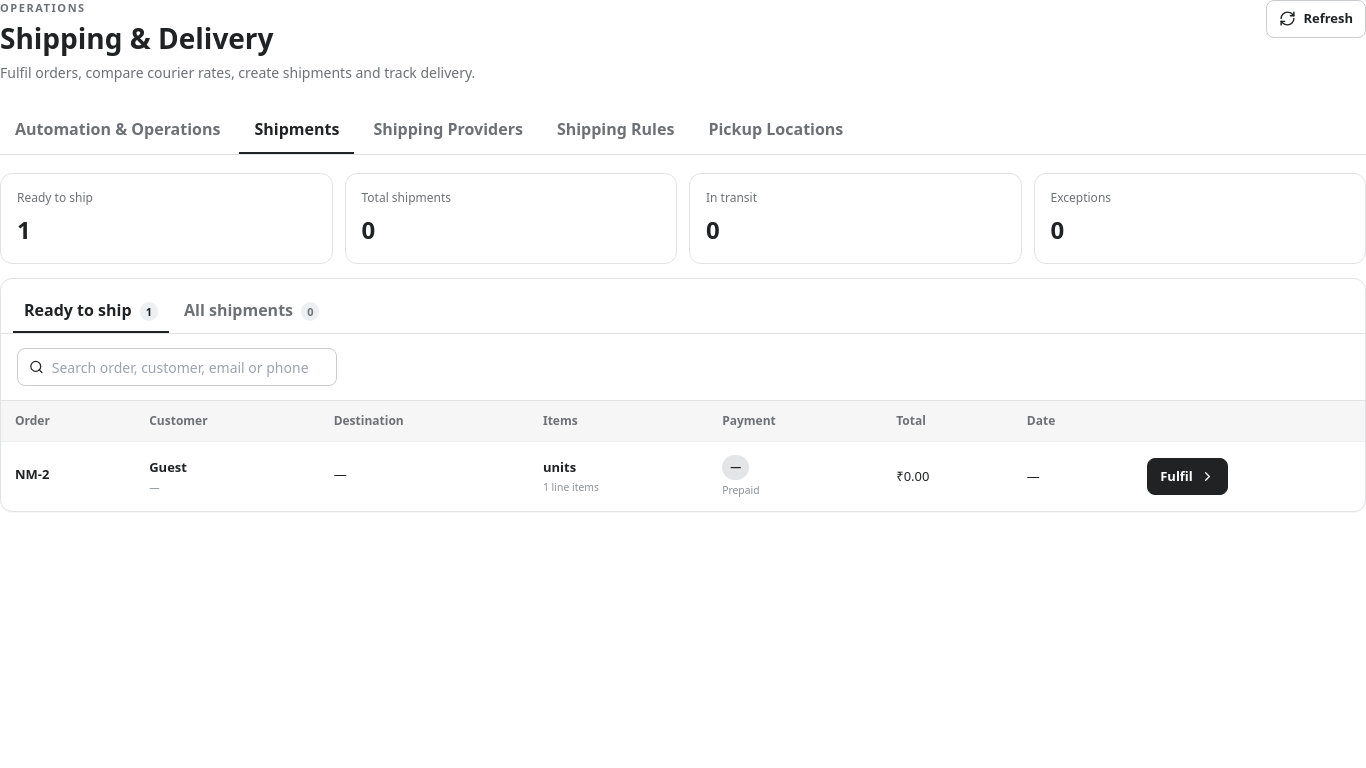
shows carrier configuration failure and retains the selected provider without claiming success
The image size is (1366, 768).
Click the button "Fulfil" at point(1188, 477), box [1147,458,1228,495]
(page scrolled)
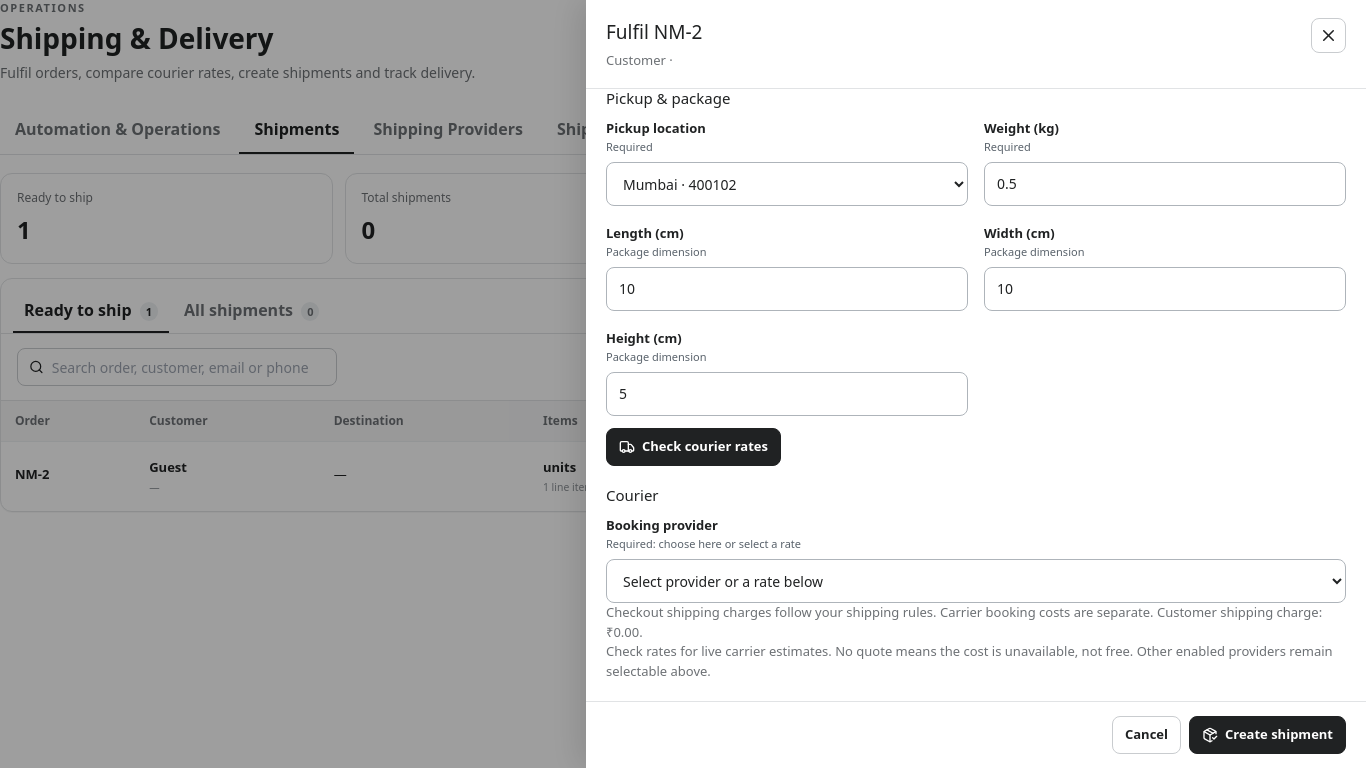
Select "Delhivery — API booking" in the dropdown named "Delhivery — API booking" at point(976, 581), box [606,559,1346,603]
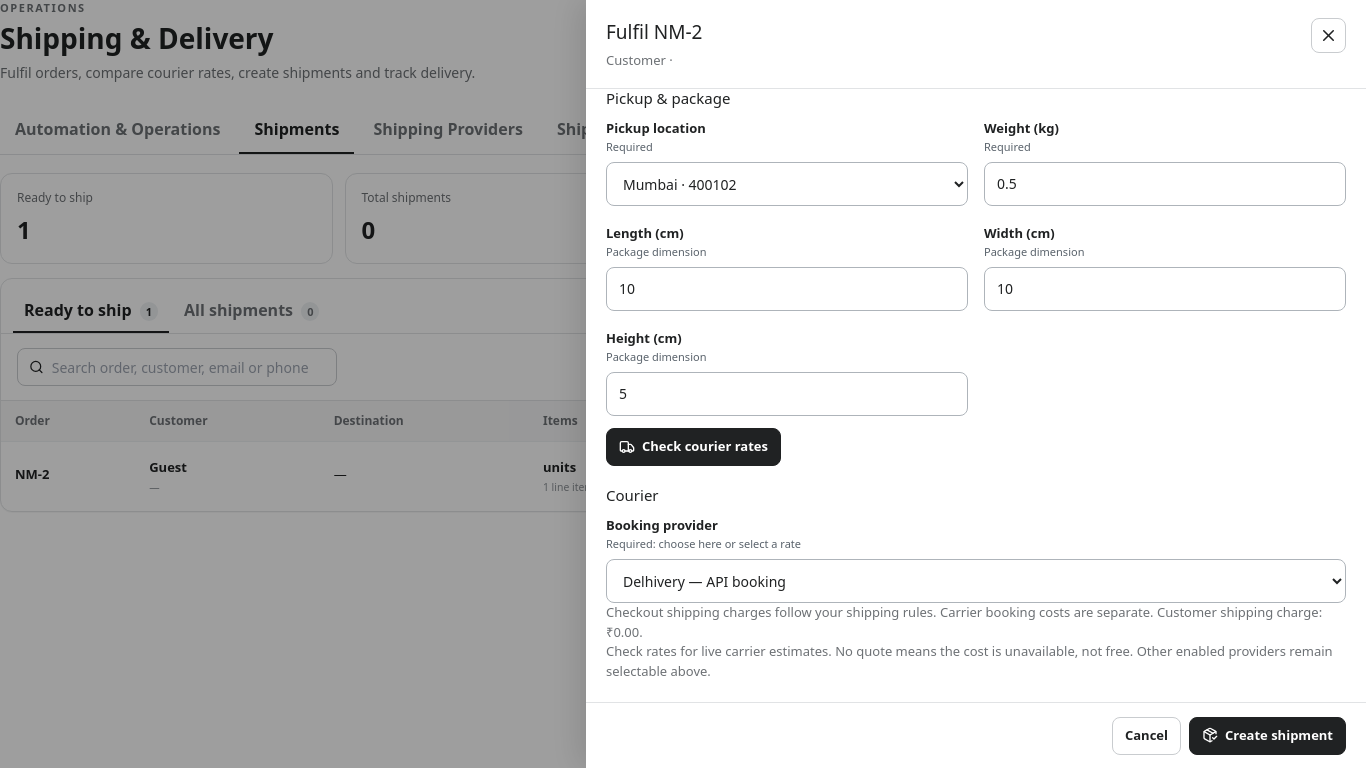
Click the button "Create shipment" at point(1268, 735), box [1189,716,1346,754]
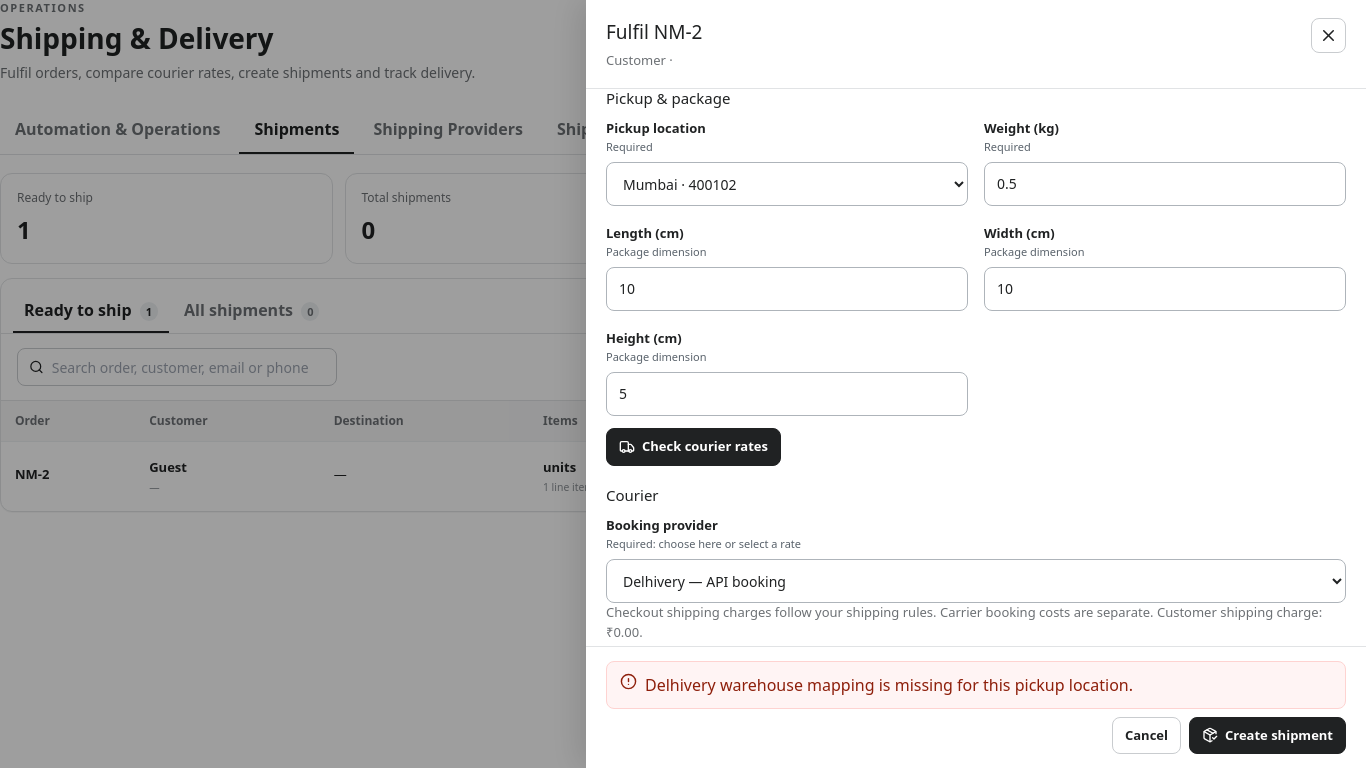
Result: the message shows "Delhivery warehouse mapping is missing" at [645,674,1133,696]
